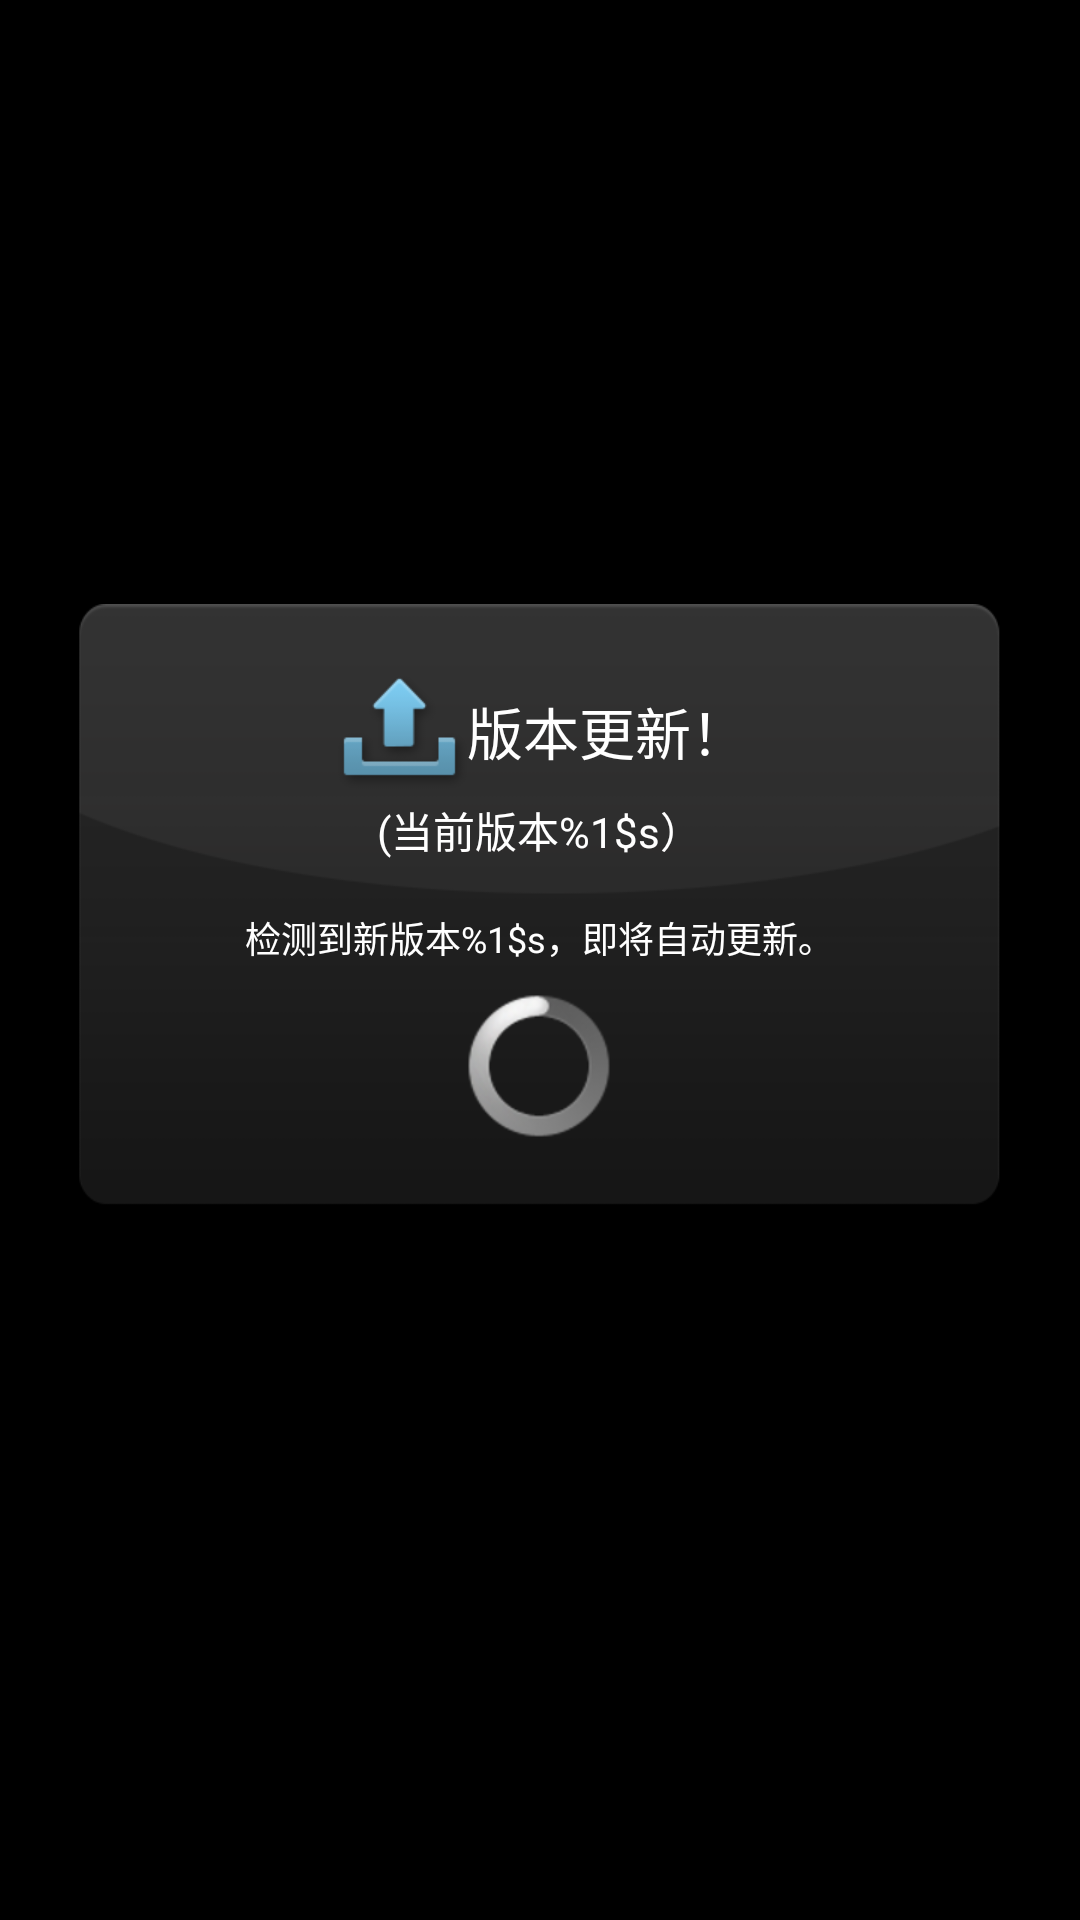

Icons on this 1080w x 1920h Android screen, each with its box as [x1=x1, y1=y1, x2=x2, y2=y2]:
upgrade tag: [x1=344, y1=678, x2=455, y2=775]
